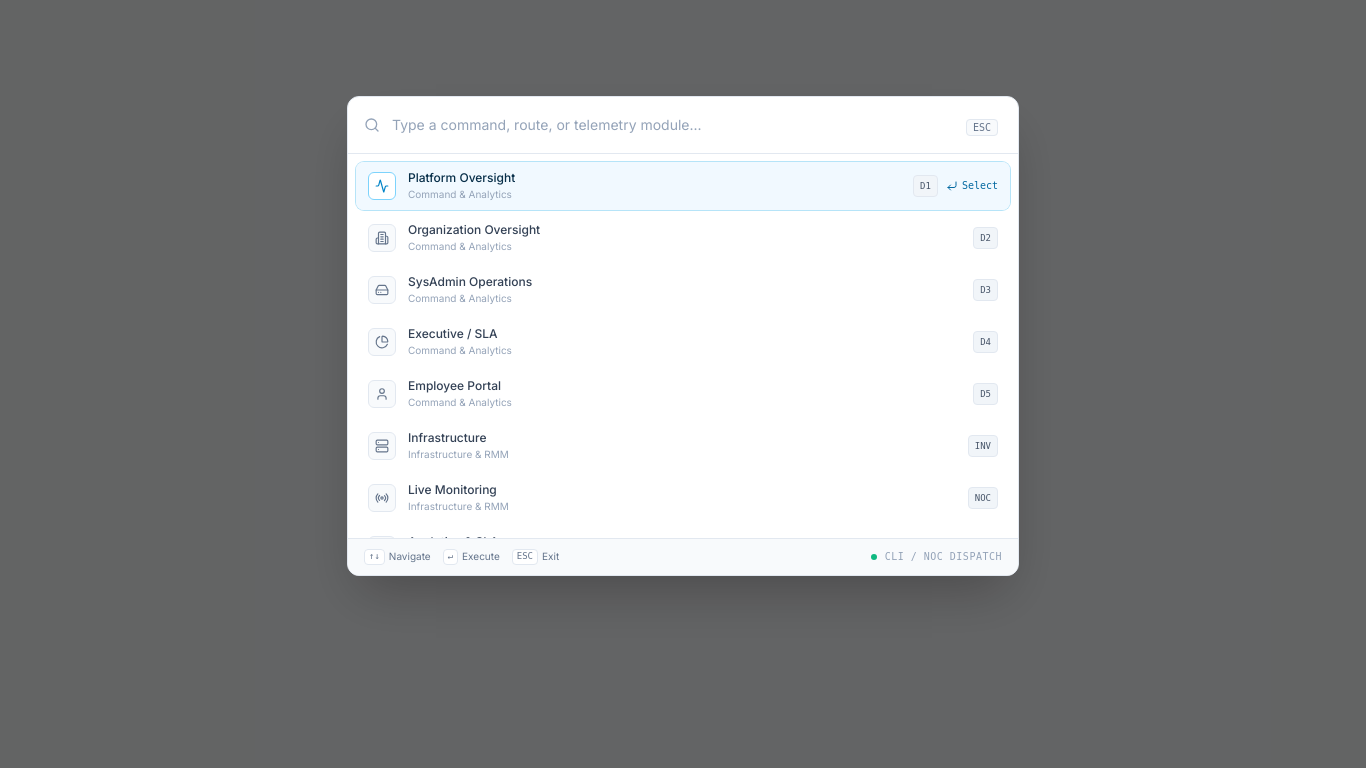
Test case: NOC Command Center Shell & Command Palette Test Suite › Global CommandPalette Component › shows technical empty state when search finds no matches
Type "xyznonexistentquery999" into the field with test id "command-palette-input".
click(671, 125); type("xyznonexistentquery999")  # box [392, 115, 950, 135]
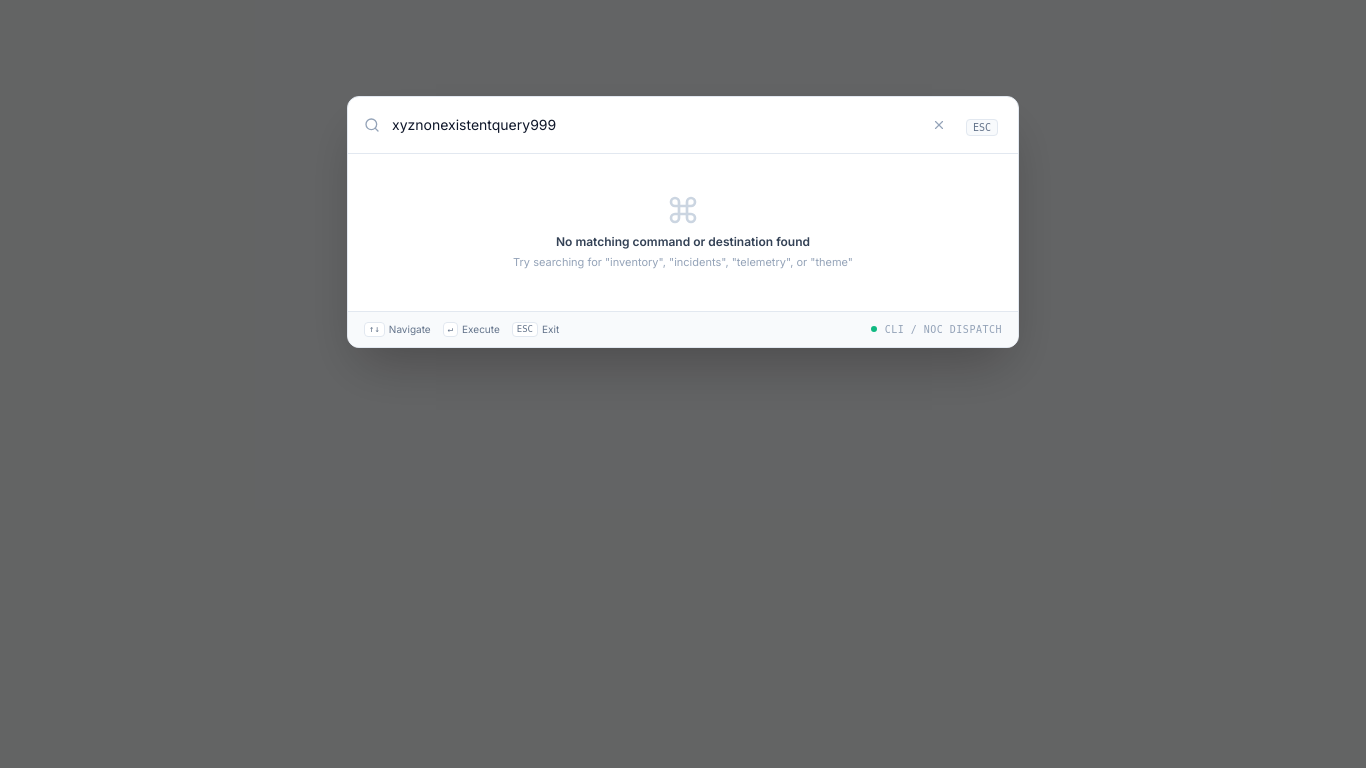
Result: the text "No matching command or destination found" is shown at [556, 234, 810, 249]
Result: the button with test id "command-palette-item" is gone
